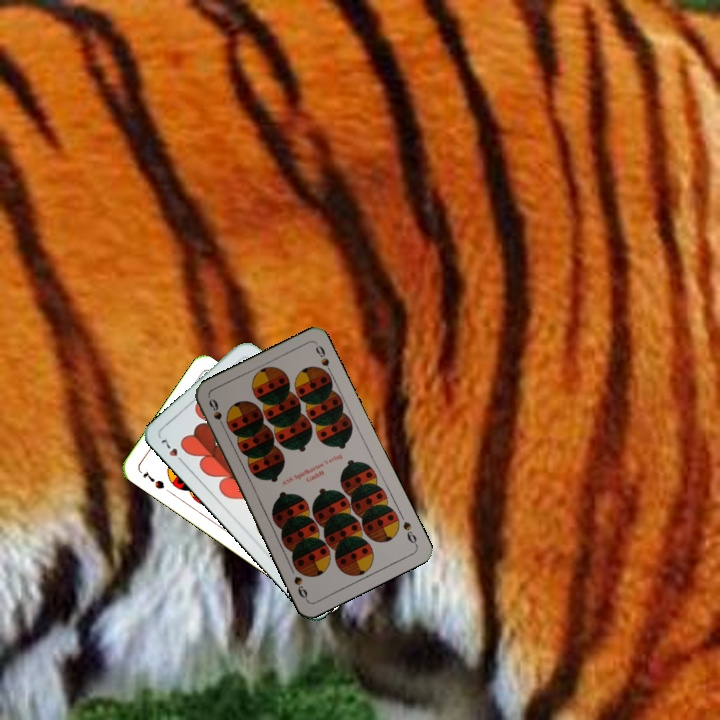H7: (157, 435, 187, 467)
S7: (139, 467, 167, 491)
S9: (205, 394, 228, 433), (399, 517, 420, 548)
